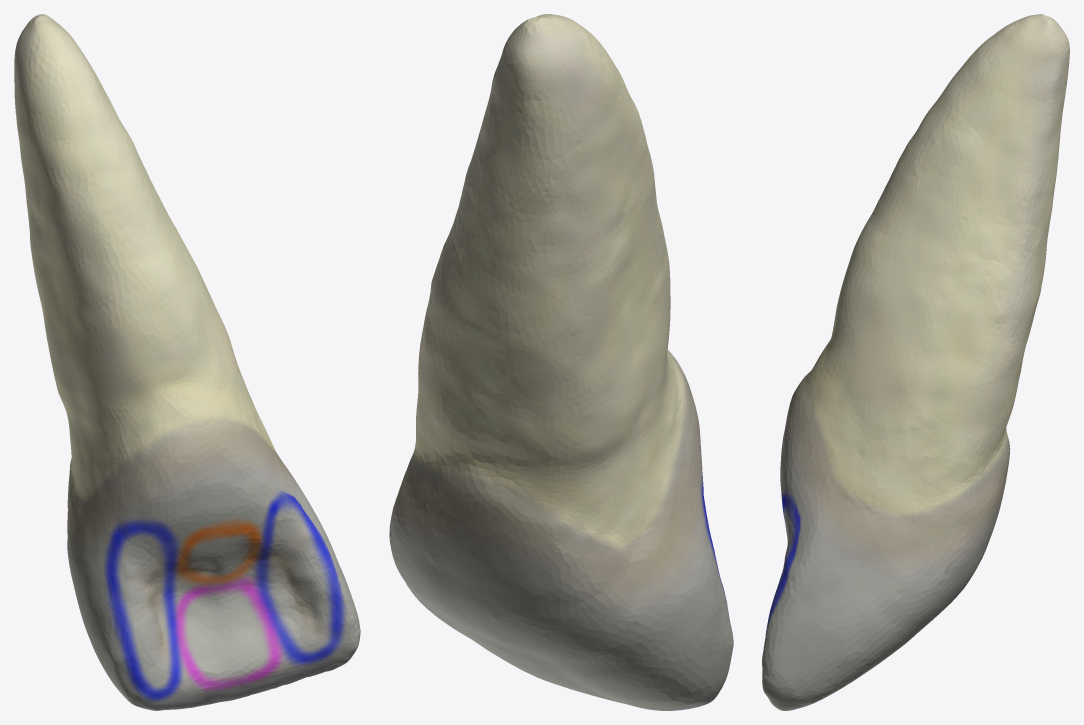
The model's file is 21 - incisivo central superior esquerdo - face palatina - 2 .glb.
The picture shows the model from 3 angles, left to right: view 1: azimuth 30°, elevation 25°; view 2: azimuth 150°, elevation 25°; view 3: azimuth 270°, elevation 25°; orthographic projection. The views are drawn at different scales.
Parts seen in each view (by area): view 1: 3MFMeshParent_0; view 2: 3MFMeshParent_0; view 3: 3MFMeshParent_0.
Part boxes in pixels (left/top/right/bottom): 3MFMeshParent_0: left=14, top=14, right=360, bottom=710; 3MFMeshParent_0: left=389, top=14, right=733, bottom=710; 3MFMeshParent_0: left=762, top=14, right=1069, bottom=710.
Bounding box in the file's own units: 0.3422 × 0.8597 × 0.3805.
1 material, 1 textured.
